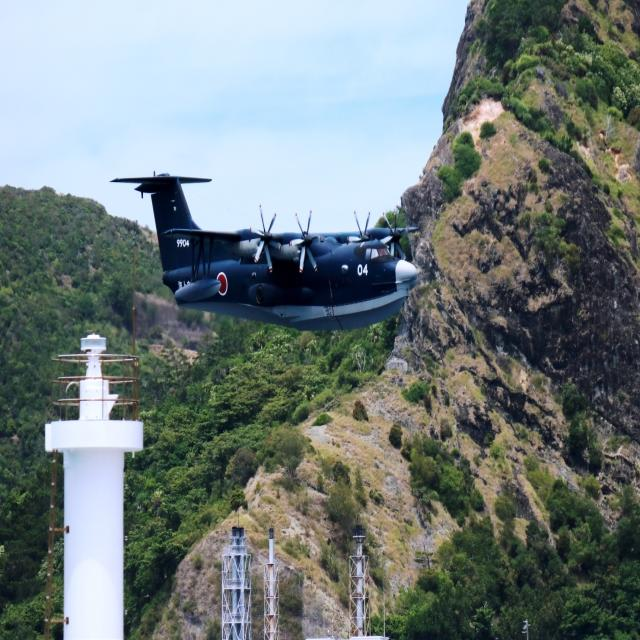MIL_Plane: (108, 170, 419, 330)
